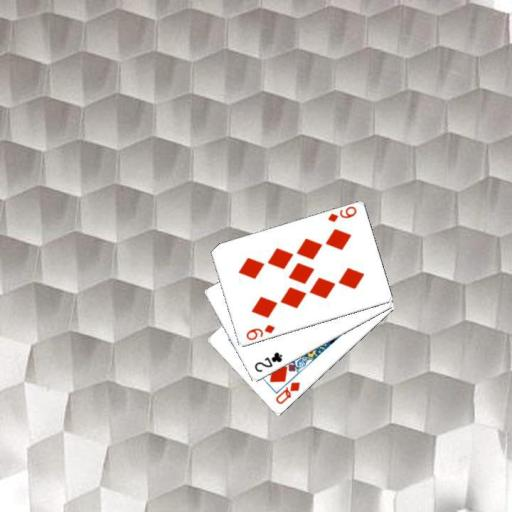2C: (251, 349, 284, 374)
9D: (242, 321, 276, 342), (324, 204, 358, 224)
QD: (273, 379, 302, 406)
